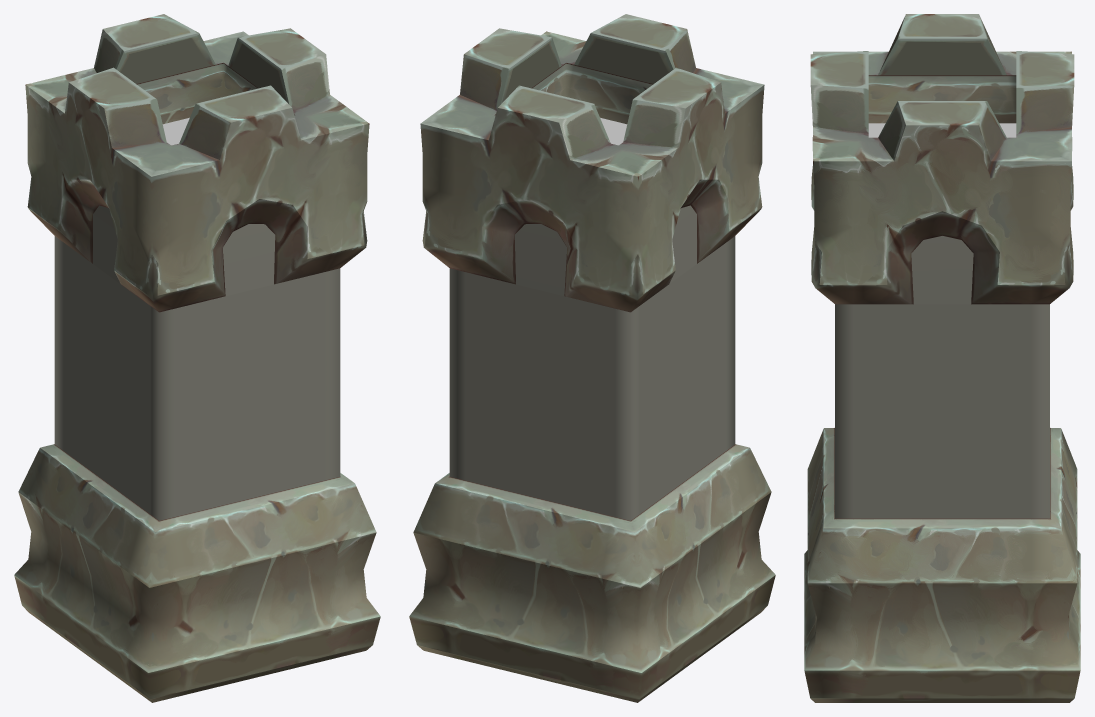
File: WallSection_A.fbx
3 views of the same model, side by side, from view 1: azimuth 30°, elevation 25°; view 2: azimuth 150°, elevation 25°; view 3: azimuth 270°, elevation 25° (orthographic). The views are drawn at different scales.
Visible parts, largest first — view 1: WallSection_A; view 2: WallSection_A; view 3: WallSection_A.
Part boxes in pixels (<box>): WallSection_A: <box>14,14,380,702</box>; WallSection_A: <box>409,14,775,702</box>; WallSection_A: <box>804,14,1080,702</box>.
Bounding box in the file's own units: 971 × 2249 × 971.
